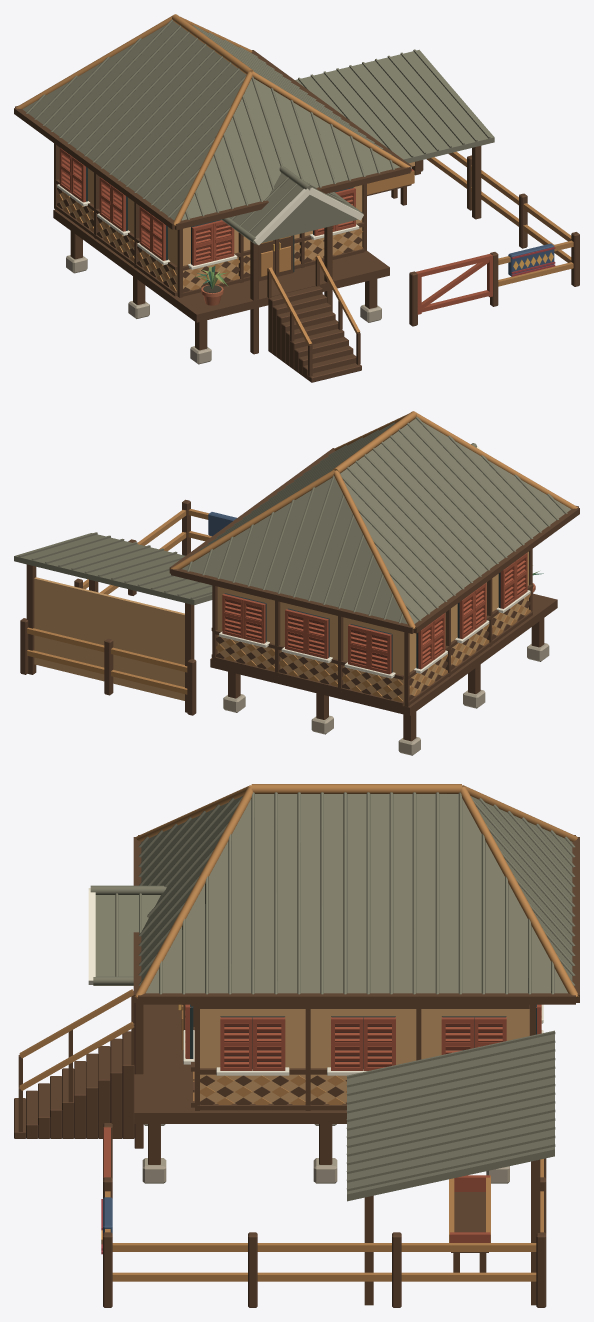
The picture shows the model from 3 angles, top to bottom: view 1: azimuth 30°, elevation 25°; view 2: azimuth 150°, elevation 25°; view 3: azimuth 270°, elevation 25°; orthographic projection. The views are drawn at different scales.
Visible parts, largest first — view 1: Hipped roof, Saddle yard, Raised bamboo house, Kelarai woven panels, Louvred shutters, Stair treads, Pitched roof, Entrance joinery, Raking bargeboards, Potted pandan; view 2: Hipped roof, Saddle yard, Raised bamboo house, Louvred shutters, Kelarai woven panels; view 3: Hipped roof, Saddle yard, Raised bamboo house, Louvred shutters, Stair treads, Kelarai woven panels, Pitched roof, Raking bargeboards.
Boxes of the visible parts, box(x1,y1,x2,y2) form: Hipped roof: box(14, 14, 411, 230); Saddle yard: box(295, 49, 579, 326); Raised bamboo house: box(53, 147, 389, 376); Kelarai woven panels: box(54, 143, 366, 297); Louvred shutters: box(57, 148, 359, 269); Stair treads: box(268, 286, 361, 382); Pitched roof: box(221, 166, 363, 244); Entrance joinery: box(259, 235, 294, 281); Raking bargeboards: box(254, 188, 363, 245); Potted pandan: box(194, 266, 228, 305); Hipped roof: box(169, 411, 579, 633); Saddle yard: box(14, 499, 236, 715); Raised bamboo house: box(210, 551, 557, 755); Louvred shutters: box(219, 552, 530, 678); Kelarai woven panels: box(211, 549, 532, 706); Hipped roof: box(133, 784, 579, 1004); Saddle yard: box(101, 1030, 555, 1307); Raised bamboo house: box(18, 989, 529, 1183); Louvred shutters: box(183, 1004, 543, 1075); Stair treads: box(14, 1031, 134, 1138); Kelarai woven panels: box(191, 1004, 535, 1110); Pitched roof: box(90, 885, 166, 985); Raking bargeboards: box(88, 888, 95, 984).
Bounding box in the file's own units: 12.4 × 7.27 × 11.05.
